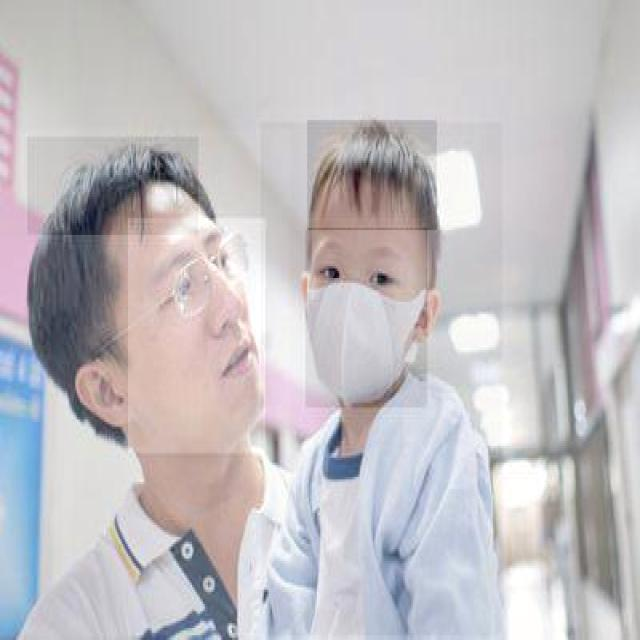face_mask: (306, 228, 427, 408)
face_nomask: (128, 218, 266, 453)
glasses: (160, 226, 253, 325)
head_nohelmet: (27, 137, 200, 237), (307, 120, 438, 232)
person: (0, 130, 291, 638), (261, 122, 504, 638)
